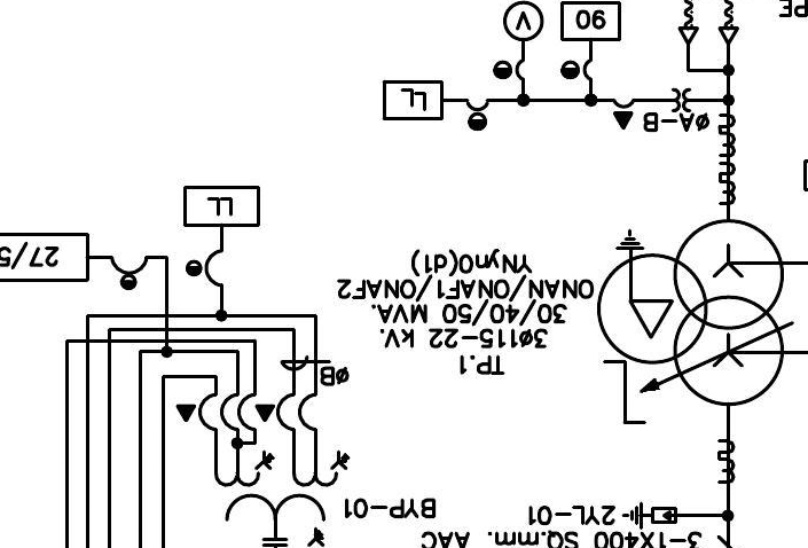11522_tx_ynyn0d1: (596, 218, 786, 407)
115_cvt_3p: (214, 449, 351, 547)
115_la: (622, 501, 678, 530)
LL: (183, 185, 260, 228), (382, 80, 444, 120)
terminator_double: (676, 26, 740, 73)
